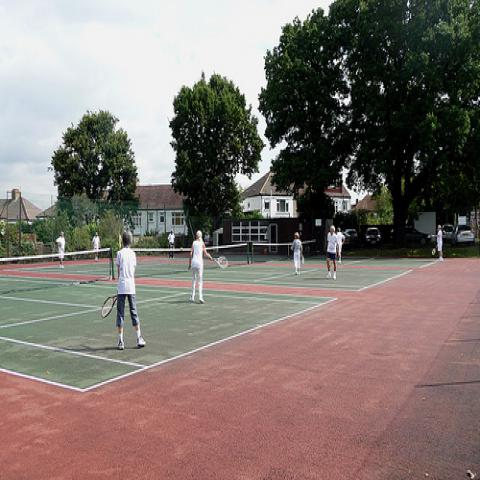car: (451, 224, 476, 246), (363, 227, 382, 248), (441, 224, 455, 241)
